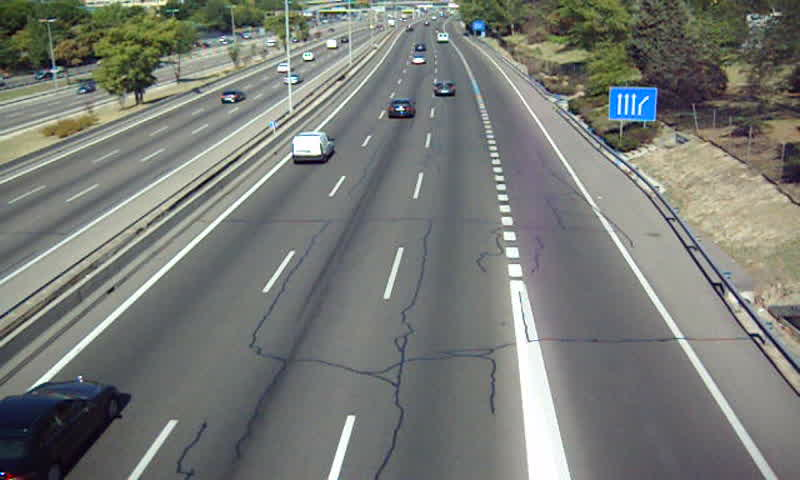car: (1, 380, 118, 480), (432, 80, 457, 99), (390, 98, 416, 115)
van: (292, 133, 335, 163)
